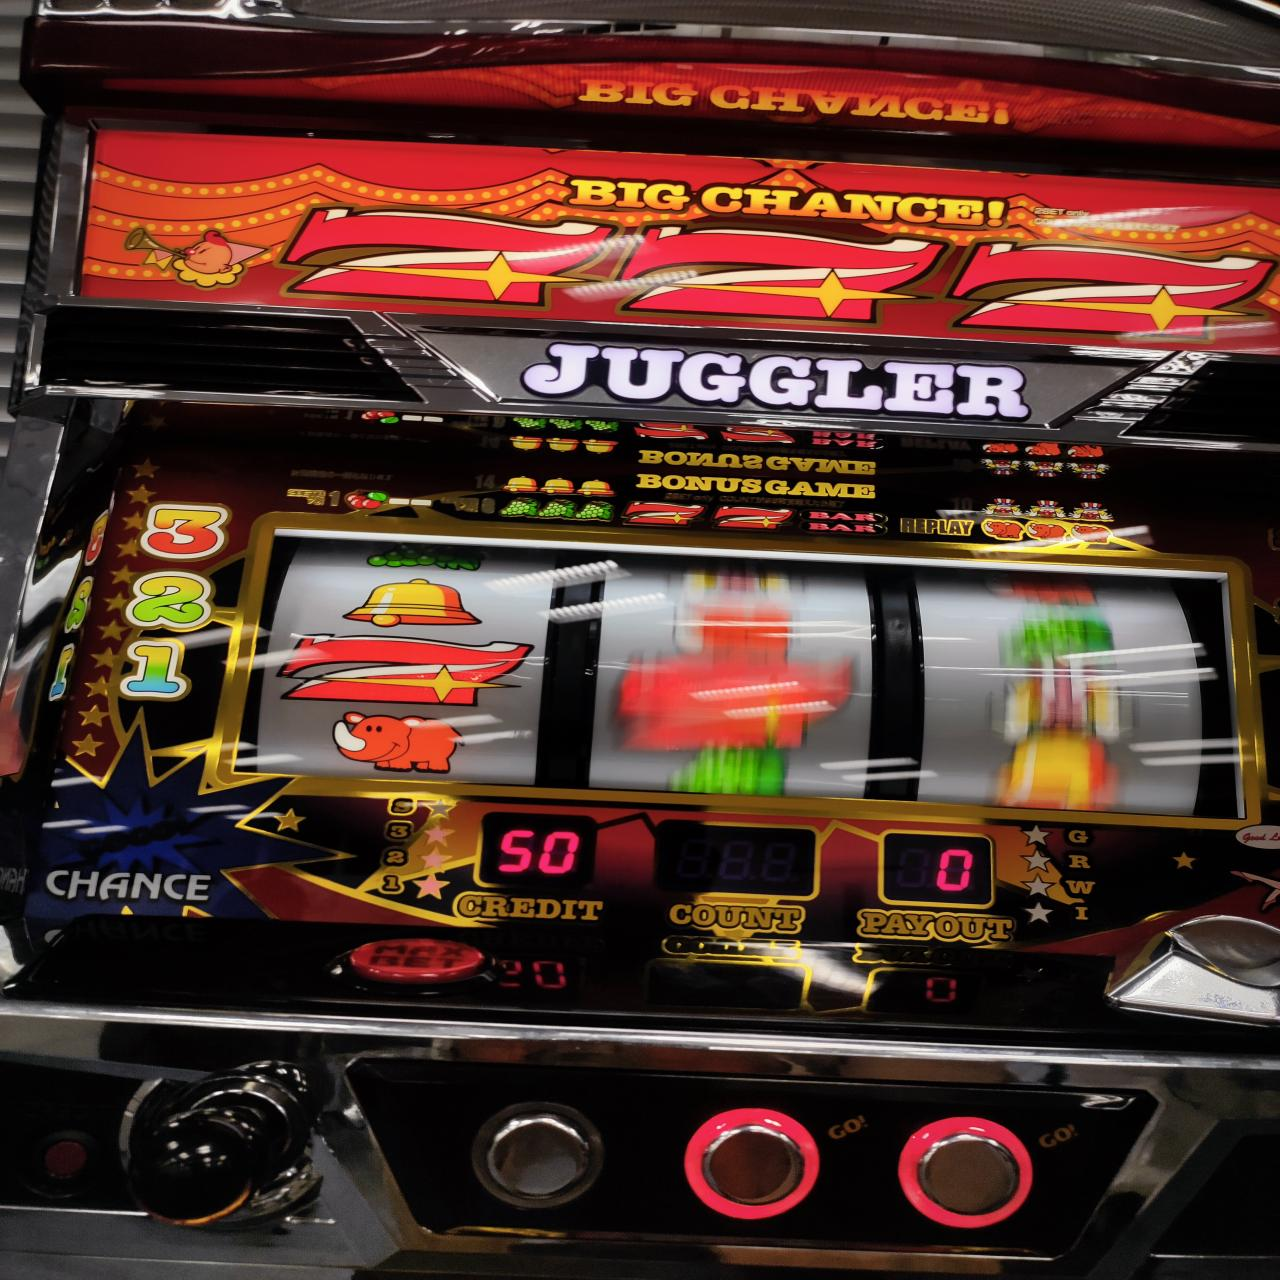7: (279, 633, 533, 709)
8: (331, 712, 471, 775)
bell: (342, 579, 484, 632)
rhino: (254, 529, 1247, 829)
